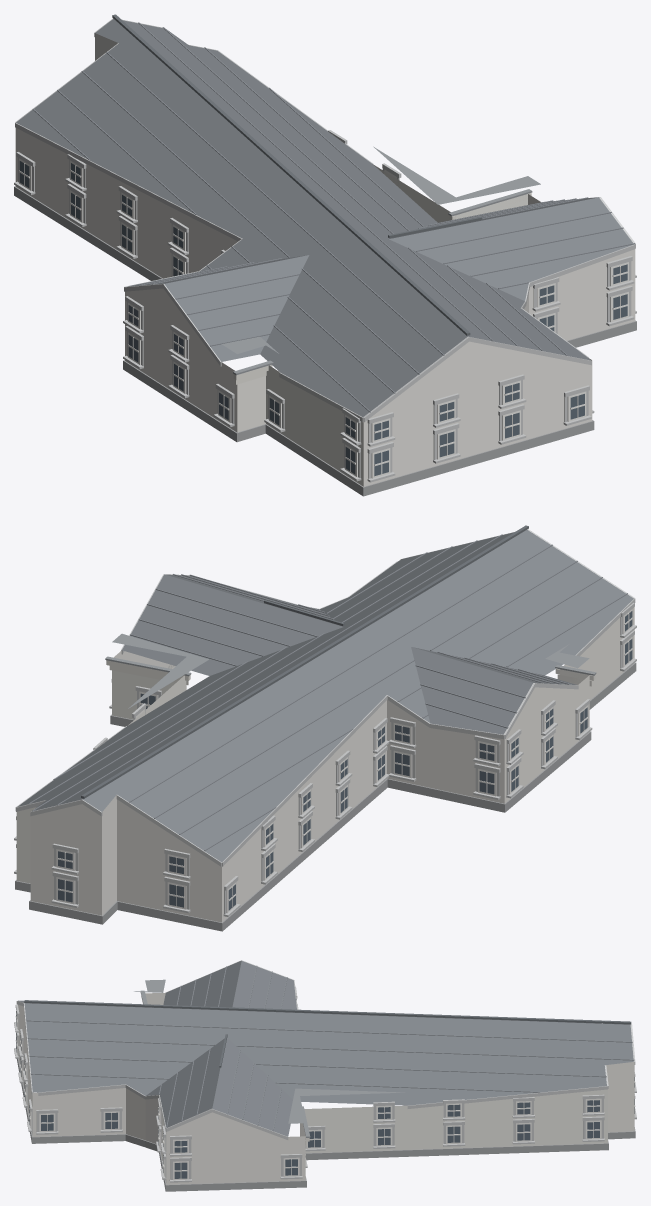
3 renders of one model, top to bottom at view 1: azimuth 30°, elevation 25°; view 2: azimuth 150°, elevation 25°; view 3: azimuth 270°, elevation 25°, orthographic. The views are drawn at different scales.
Visible parts, largest first — view 1: slate, harl, stone_band, slate_lt, plinth, frame, slate_dk, lead; view 2: slate, harl, stone_band, slate_lt, plinth, frame, slate_dk, lead, string; view 3: slate, harl, stone_band, plinth, slate_lt, frame, slate_dk, lead.
Part boxes in pixels (x1,y1,x2,y2): slate: (16,19,633,416); harl: (15,33,635,486); stone_band: (14,18,636,482); slate_lt: (32,22,635,412); plinth: (14,186,636,496); frame: (19,158,628,478); slate_dk: (112,14,482,335); lead: (222,146,540,375); slate: (17,530,633,862); harl: (16,559,634,922); stone_band: (14,529,636,916); slate_lt: (28,534,627,851); plinth: (15,662,636,931); frame: (56,609,632,913); slate_dk: (81,525,528,798); lead: (105,633,596,708); string: (106,660,595,686); slate: (24,960,633,1136); harl: (18,993,634,1184); stone_band: (14,960,636,1182); plinth: (17,1058,635,1191); slate_lt: (18,965,634,1131); frame: (15,1012,635,1180); slate_dk: (24,1000,631,1067); lead: (134,979,404,1137).
Bounding box in the file's own units: 22.76 × 6.66 × 38.9.
